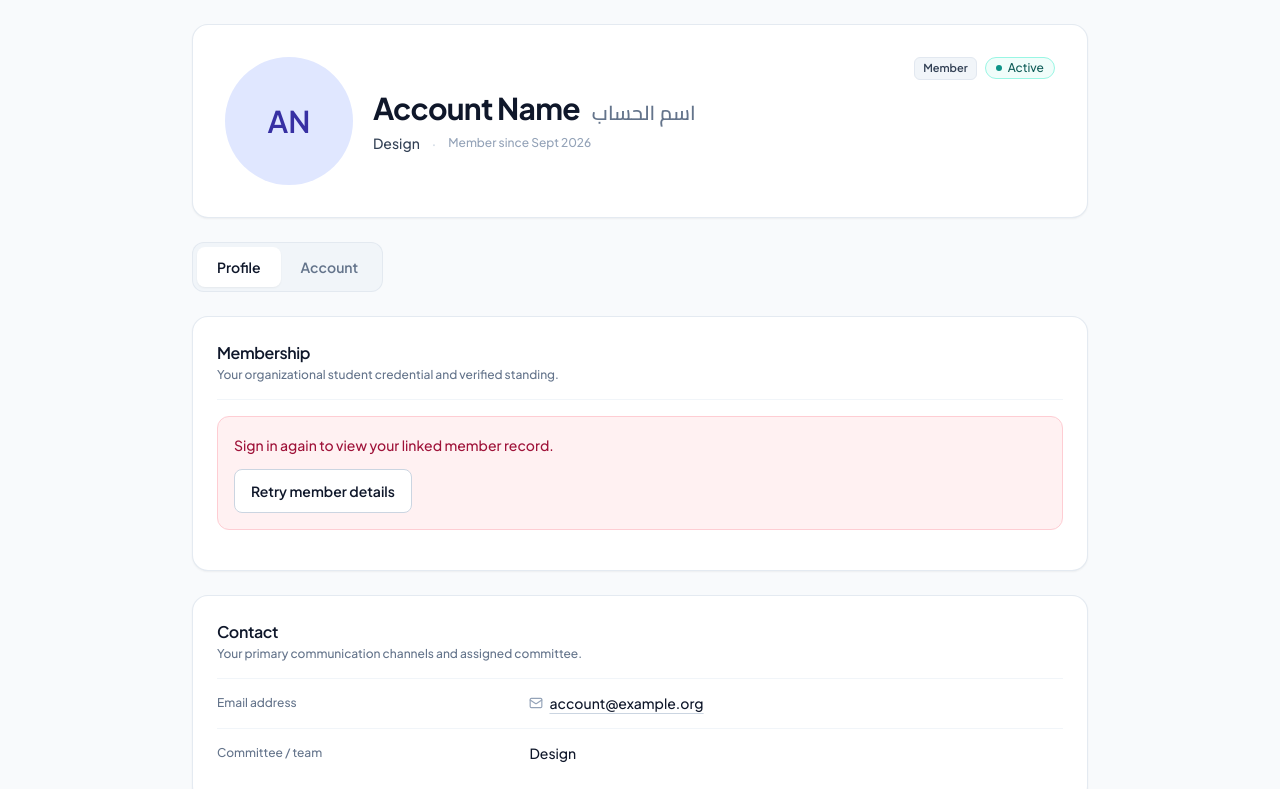
ProfilePage member request isolation › contains HTTP 401 errors and permits a working retry
The width and height of the screenshot is (1280, 789).
Check: the message shows "Sign in again", box x1=234 y1=436 x2=554 y2=454
Check: the element showing "account@example.org" is shown, box x1=529 y1=694 x2=704 y2=712
Click the button "Retry member details" at (323,491), box x1=234 y1=469 x2=412 y2=513
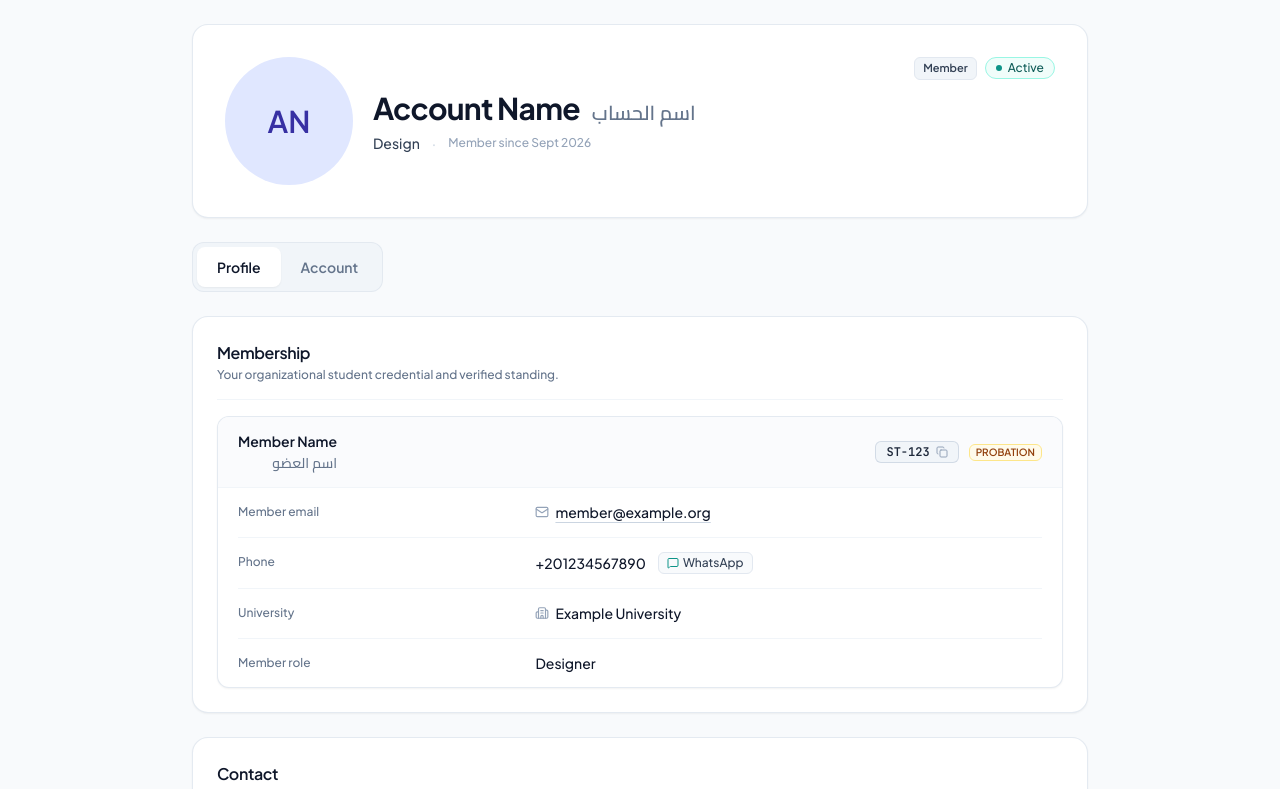
Check: the text "ST-123" is shown, box x1=886 y1=444 x2=930 y2=460
Check: the message "Sign in again to view your linked member record." is gone
